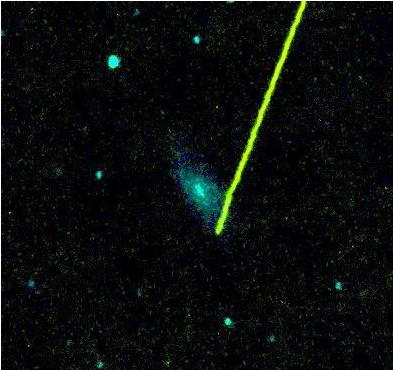star: (205, 211, 235, 241)
